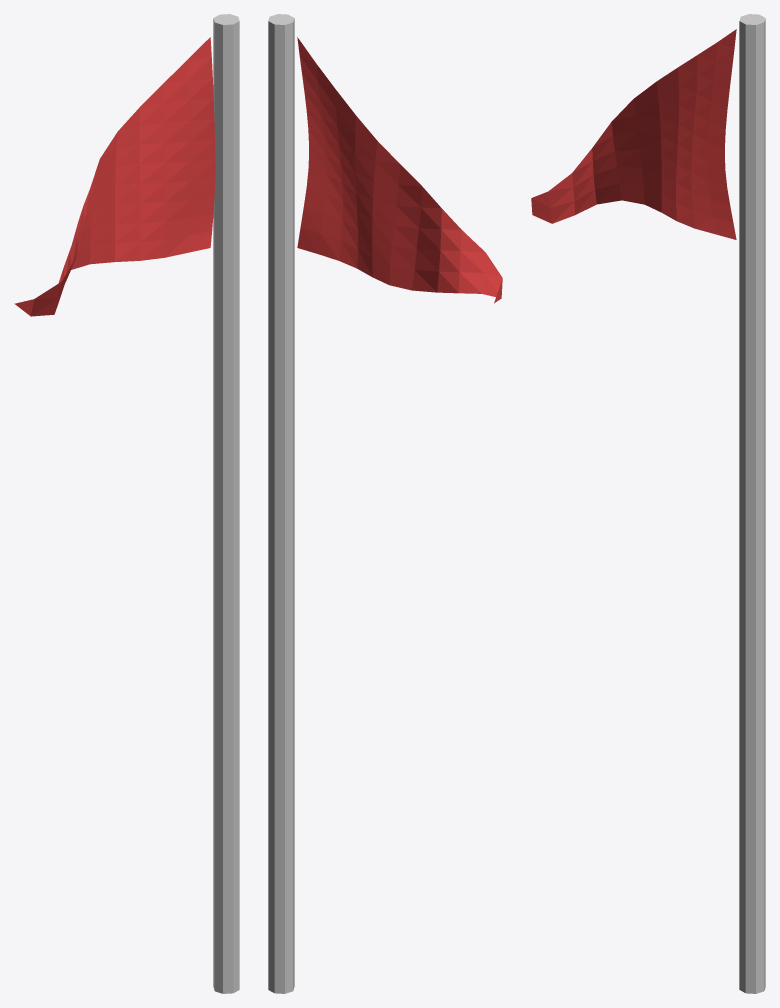
File: flag.fbx
3 renders of one model, left to right at view 1: azimuth 30°, elevation 25°; view 2: azimuth 150°, elevation 25°; view 3: azimuth 330°, elevation 25°, orthographic.
Visible parts, largest first — view 1: Cylinder_001_6_0, Plane; view 2: Cylinder_001_6_0, Plane; view 3: Cylinder_001_6_0, Plane.
Boxes of the visible parts, x1=… form: Cylinder_001_6_0: x1=213, y1=14, x2=239, y2=993; Plane: x1=14, y1=37, x2=215, y2=316; Cylinder_001_6_0: x1=268, y1=14, x2=294, y2=993; Plane: x1=297, y1=37, x2=502, y2=303; Cylinder_001_6_0: x1=739, y1=14, x2=765, y2=993; Plane: x1=531, y1=29, x2=736, y2=239.
Bounding box in the file's own units: 52.62 × 217 × 13.89.
